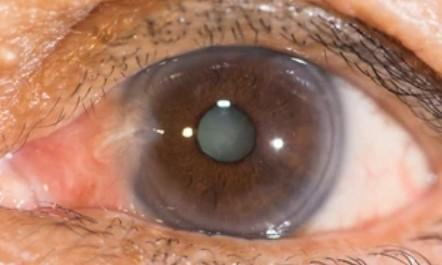eye: (126, 50, 343, 233)
